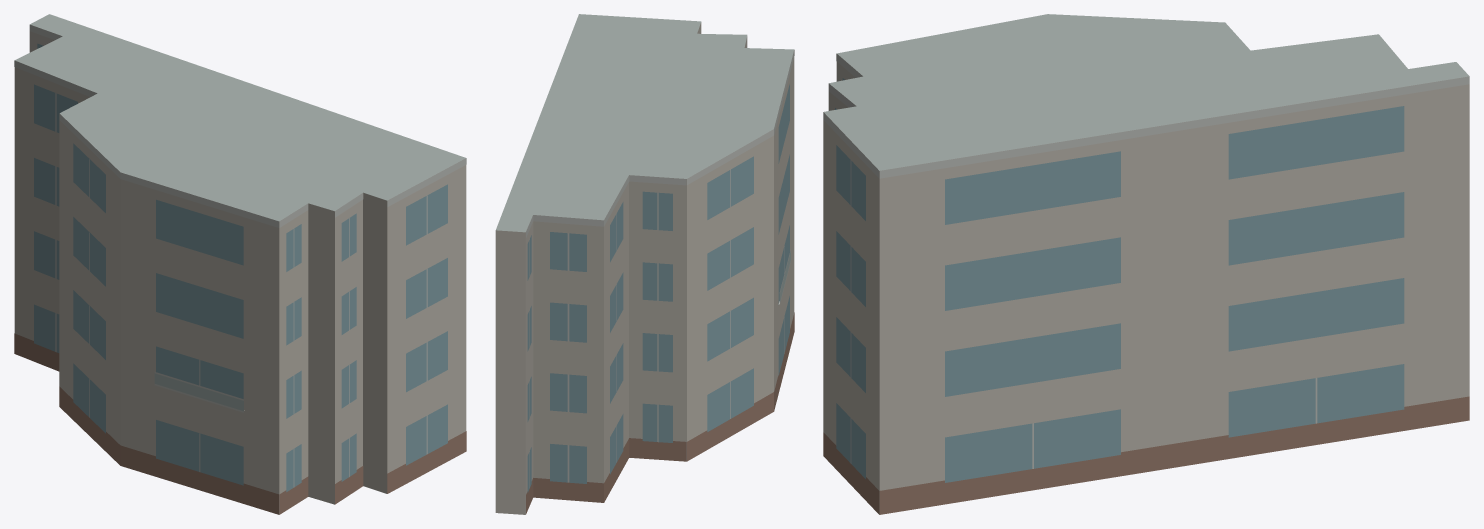
File: survey-upis-32914640.glb
The picture shows the model from 3 angles, left to right: view 1: azimuth 30°, elevation 25°; view 2: azimuth 150°, elevation 25°; view 3: azimuth 270°, elevation 25°; orthographic projection. The views are drawn at different scales.
Parts seen in each view (by area): view 1: survey-upis-32914640.tmp; view 2: survey-upis-32914640.tmp; view 3: survey-upis-32914640.tmp.
Boxes of the visible parts, left/top/right/bottom form: survey-upis-32914640.tmp: left=14, top=14, right=466, bottom=514; survey-upis-32914640.tmp: left=495, top=14, right=794, bottom=514; survey-upis-32914640.tmp: left=823, top=14, right=1469, bottom=514.
Bounding box in the file's own units: 10.47 × 10.7 × 18.23.
